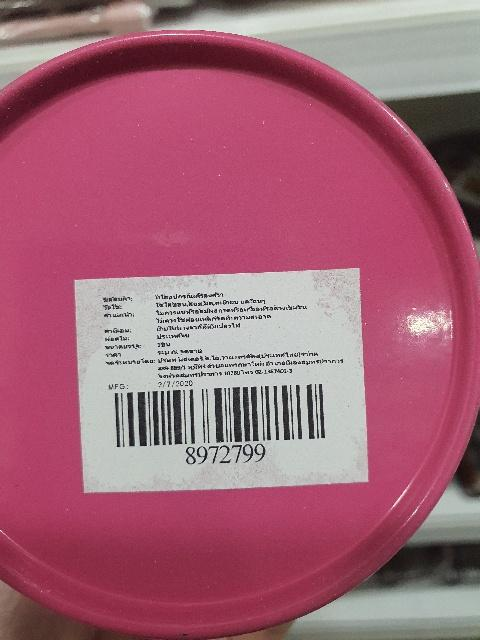Barcode: (105, 383, 342, 468)
